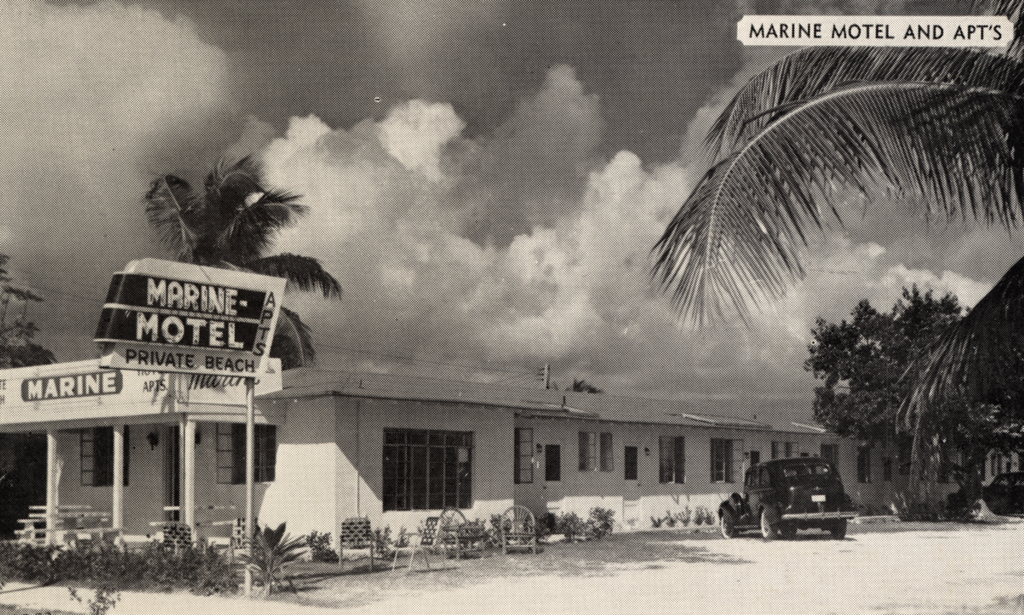Car: (727, 455, 859, 544), (946, 472, 1023, 514)
